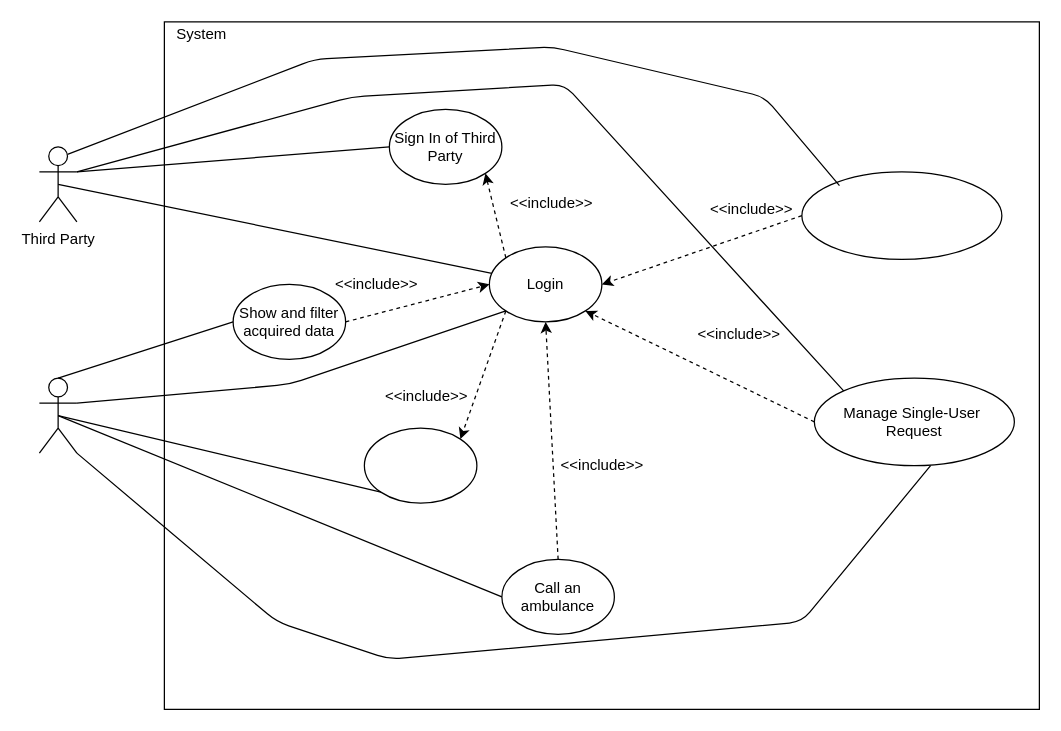
The diagram is 1061 pixels wide and 731 high, and some of its shapes have lost their labels. Here are the shapes that lost their labels. From the top down, the centre of each, then its label:
At point (901, 215): "Manage Anonymous-Group Request".
At point (57, 415): "User".
At point (420, 465): "Sign In of User".
